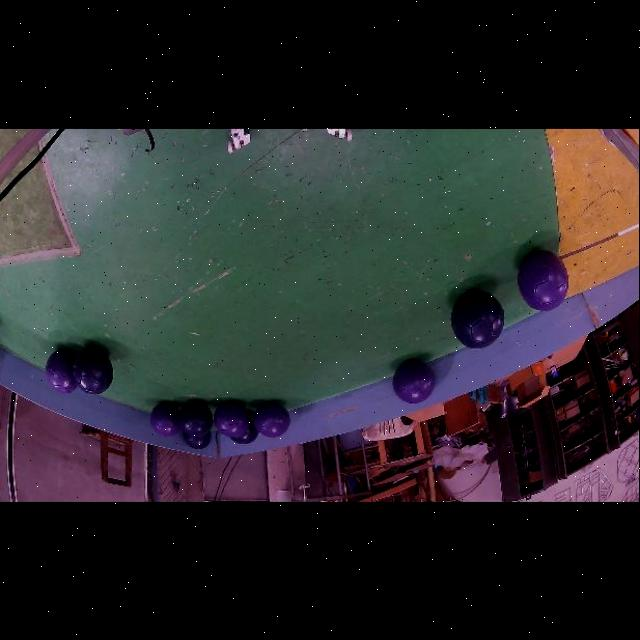B: (451, 292, 505, 350), (73, 347, 113, 395), (178, 402, 213, 438), (230, 416, 259, 446), (183, 431, 212, 451)
P: (518, 251, 569, 312), (394, 360, 435, 404), (46, 350, 78, 394), (254, 403, 290, 438), (215, 403, 251, 438), (150, 403, 181, 438)
